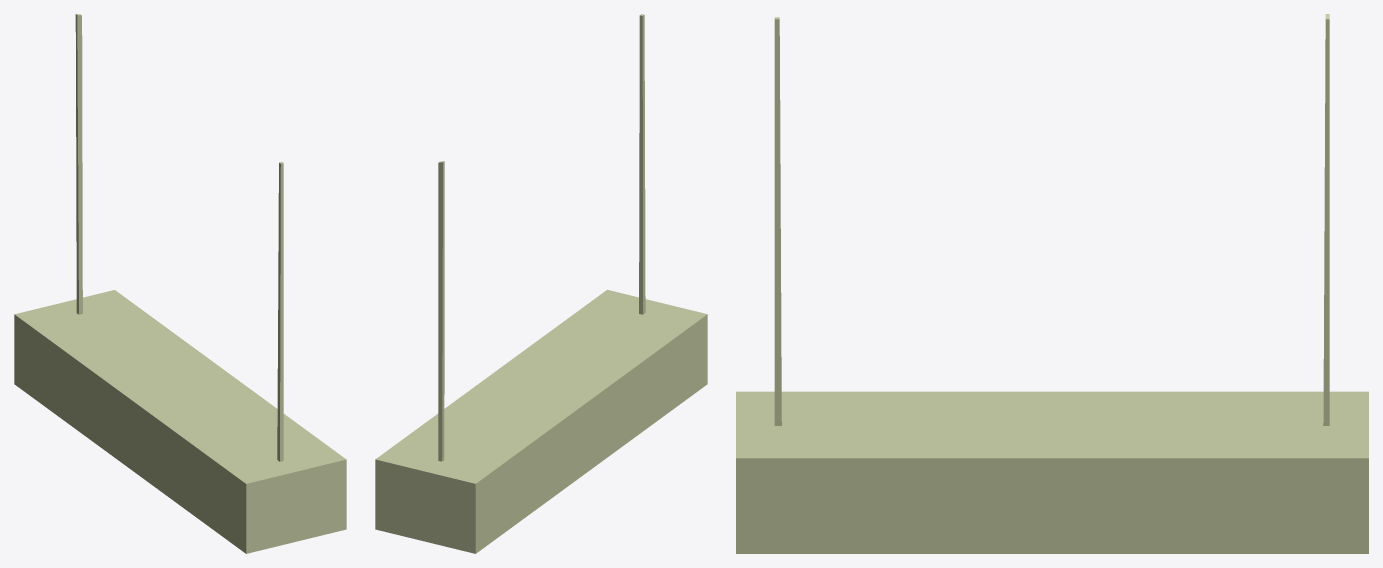
The model's file is lampShort.fbx.
The picture shows the model from 3 angles, left to right: view 1: azimuth 30°, elevation 25°; view 2: azimuth 150°, elevation 25°; view 3: azimuth 270°, elevation 25°; orthographic projection. The views are drawn at different scales.
Visible parts, largest first — view 1: Cube; view 2: Cube; view 3: Cube.
Boxes of the visible parts, <box> form: Cube: <box>14,14,346,553</box>; Cube: <box>375,14,707,553</box>; Cube: <box>736,14,1368,553</box>.
Bounding box in the file's own units: 60 × 211 × 240.
